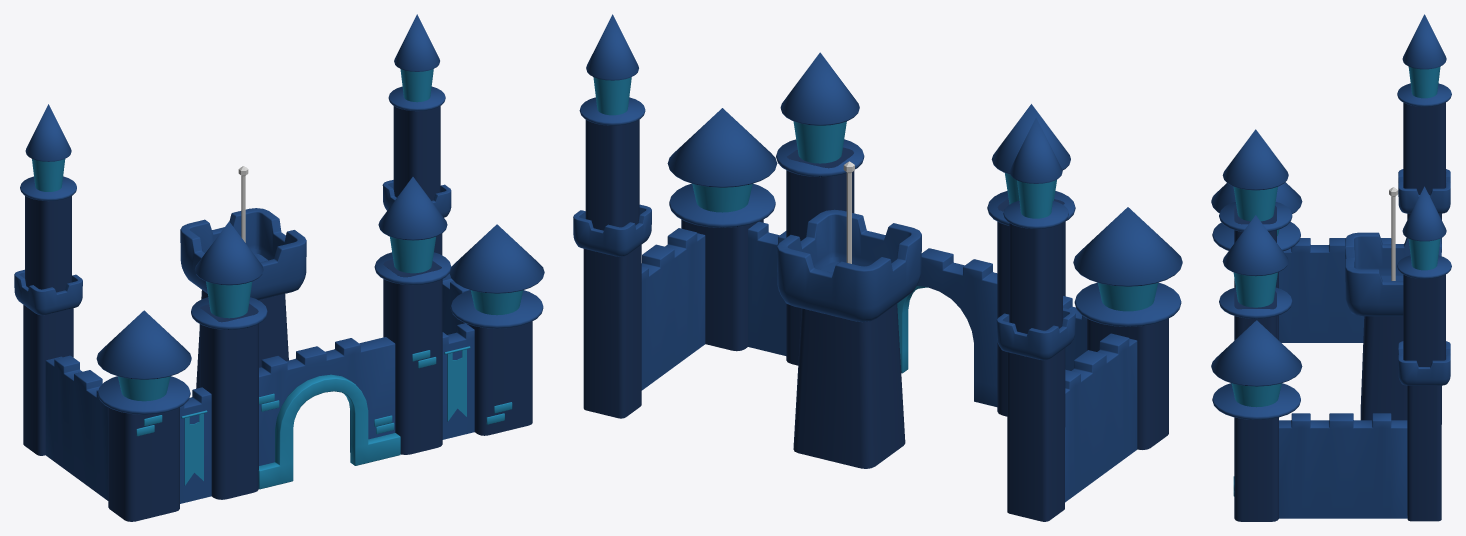
File: castle_blue_flag.fbx
3 renders of one model, left to right at view 1: azimuth 30°, elevation 25°; view 2: azimuth 150°, elevation 25°; view 3: azimuth 270°, elevation 25°, orthographic. The views are drawn at different scales.
Visible parts, largest first — view 1: castle_blue_flag; view 2: castle_blue_flag; view 3: castle_blue_flag.
Part boxes in pixels (box(x1,y1,x2,y2)): castle_blue_flag: box(14, 14, 544, 521); castle_blue_flag: box(573, 14, 1182, 521); castle_blue_flag: box(1211, 14, 1451, 521).
Bounding box in the file's own units: 2.79 × 2.09 × 1.4.
